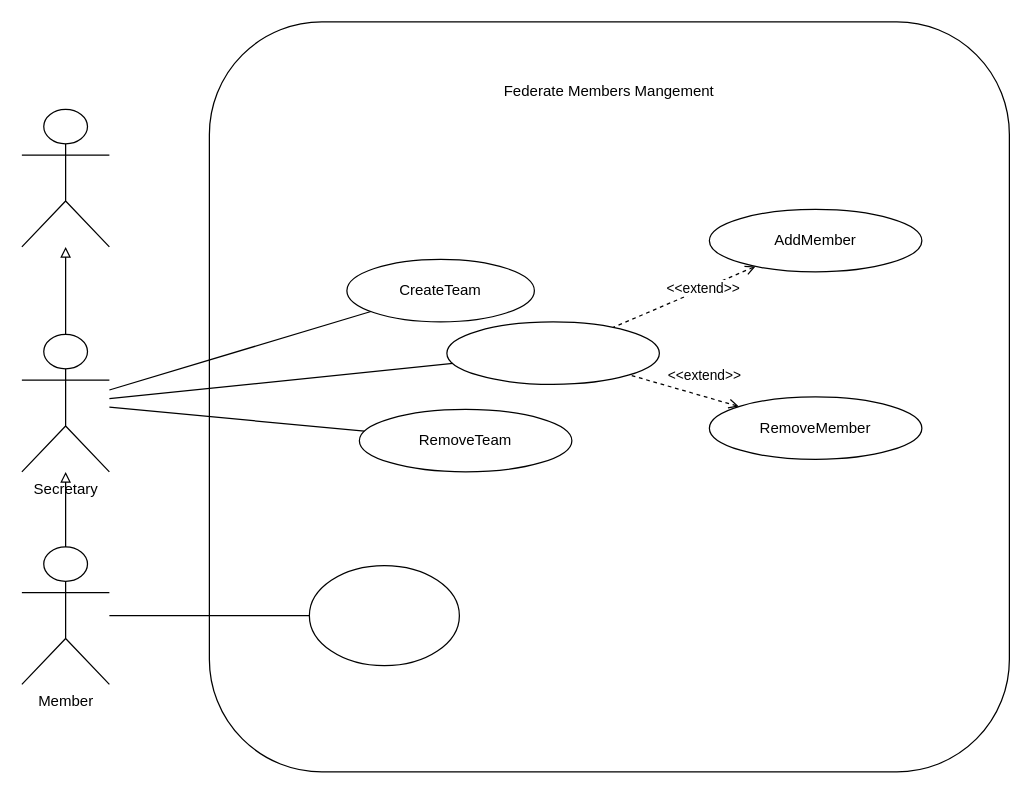
Some shapes in this 1031 by 794 pixel diagram are drawn without their labels. Each missing label, with the centre of its shape:
"EditTeam" goes at point 552,352.
"President" goes at point 65,177.
"ViewTeamsInfo" goes at point 383,615.
